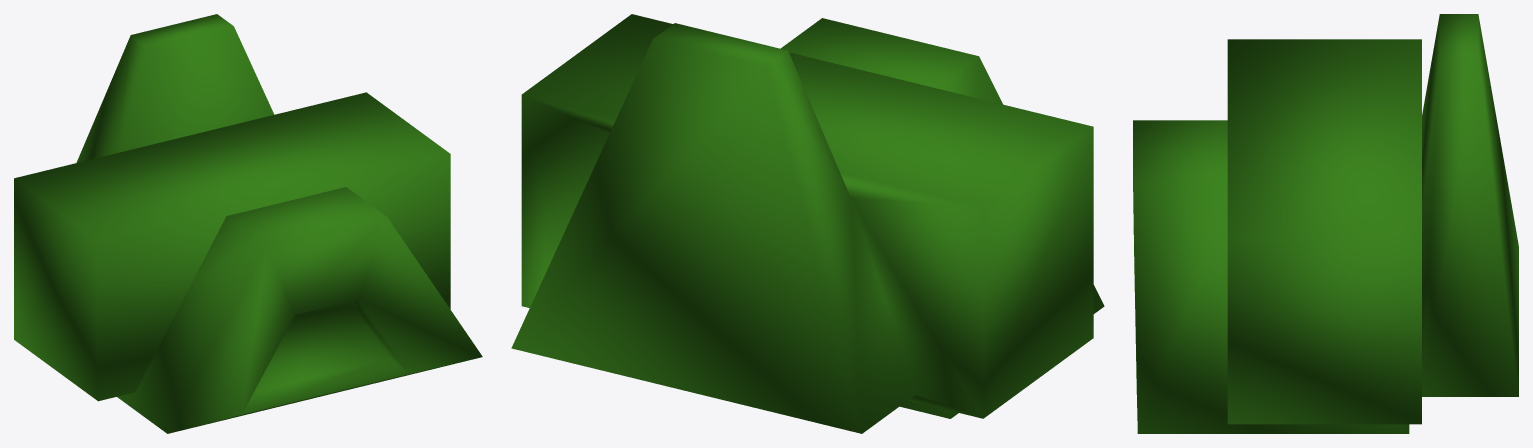
The model's file is Sour Forrest Cave.obj.
The picture shows the model from 3 angles, left to right: view 1: azimuth 30°, elevation 25°; view 2: azimuth 150°, elevation 25°; view 3: azimuth 270°, elevation 25°; orthographic projection. The views are drawn at different scales.
Visible parts, largest first — view 1: Sour_Forrest_Cave; view 2: Sour_Forrest_Cave; view 3: Sour_Forrest_Cave.
Part boxes in pixels (x1=…): Sour_Forrest_Cave: x1=14, y1=14, x2=482, y2=433; Sour_Forrest_Cave: x1=511, y1=14, x2=1104, y2=433; Sour_Forrest_Cave: x1=1133, y1=14, x2=1518, y2=433.
Size of the model in its own units: 79.13 by 56.62 by 64.98.
